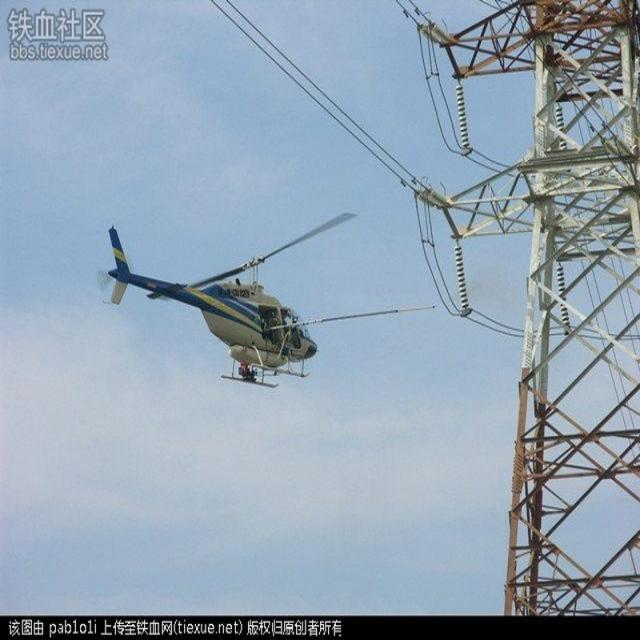non-critical vegetation: (462, 16, 634, 604)
